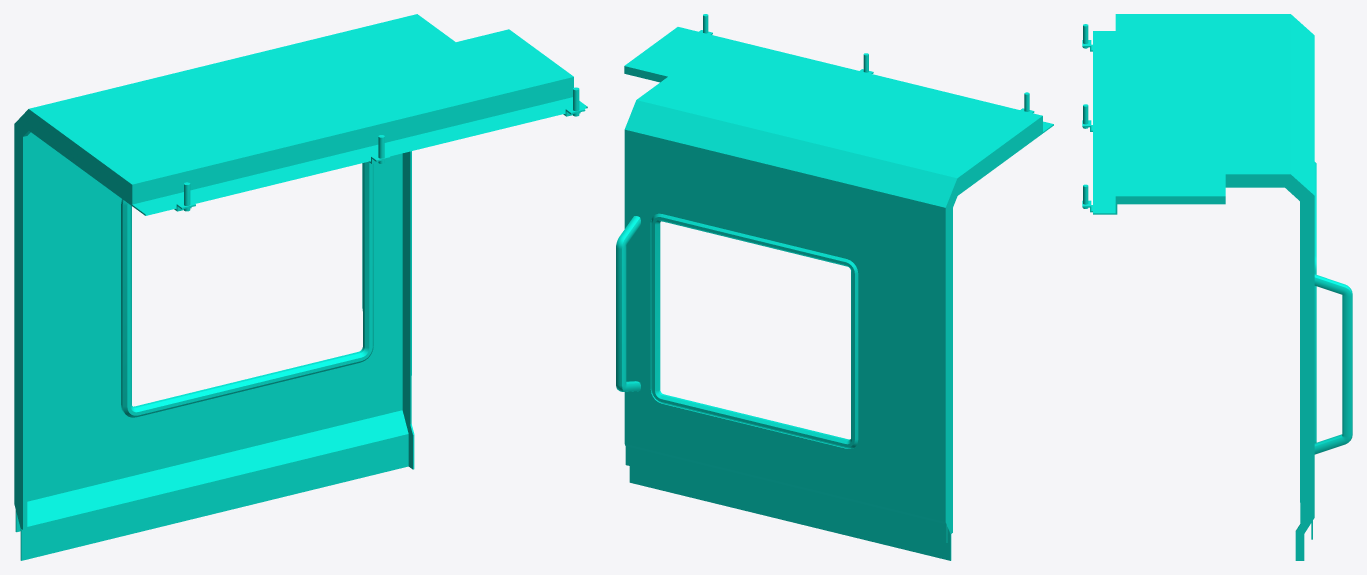
File: R_DOOR_.fbx
The picture shows the model from 3 angles, left to right: view 1: azimuth 30°, elevation 25°; view 2: azimuth 150°, elevation 25°; view 3: azimuth 270°, elevation 25°; orthographic projection. The views are drawn at different scales.
Parts seen in each view (by area): view 1: MAIN_DOOR_RIGHT; view 2: MAIN_DOOR_RIGHT; view 3: MAIN_DOOR_RIGHT.
Boxes of the visible parts, x1,y1,x2,y2 form: MAIN_DOOR_RIGHT: (14, 14, 587, 560); MAIN_DOOR_RIGHT: (616, 14, 1053, 560); MAIN_DOOR_RIGHT: (1082, 14, 1352, 560).
Bounding box in the file's own units: 1477 × 925 × 1476.
